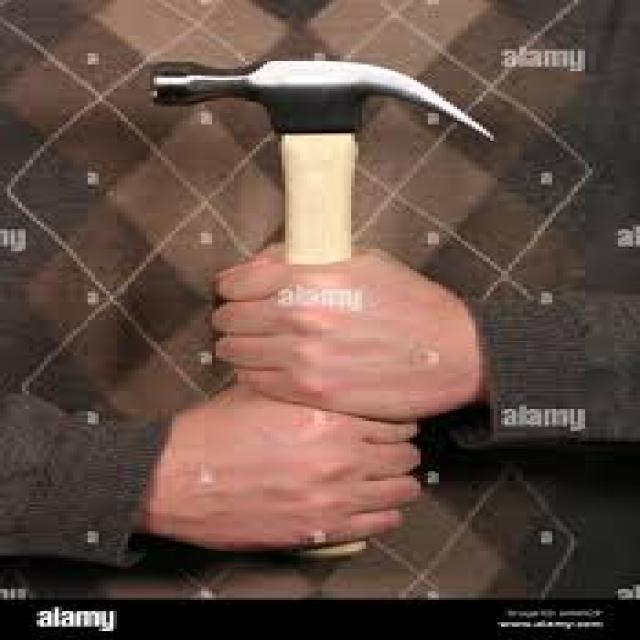hammer: (132, 42, 516, 582)
